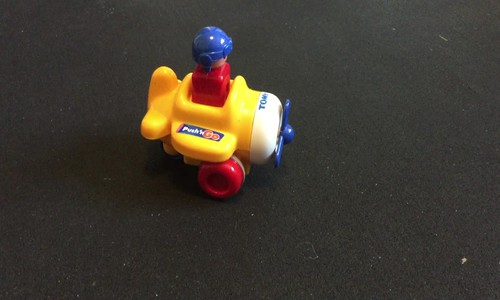toy: (140, 25, 295, 201)
